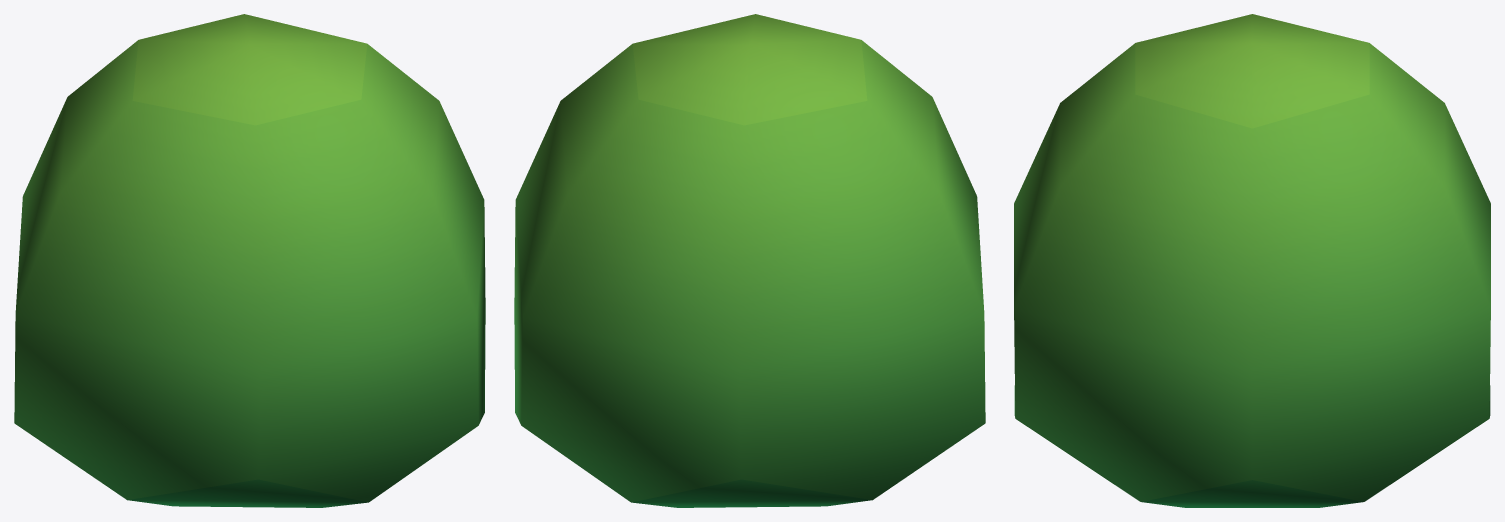
Rendered from Bush_1_A_Color1.glb.
3 views of the same model, side by side, from view 1: azimuth 30°, elevation 25°; view 2: azimuth 150°, elevation 25°; view 3: azimuth 270°, elevation 25° (orthographic).
Visible parts, largest first — view 1: Bush_1_A_Color1; view 2: Bush_1_A_Color1; view 3: Bush_1_A_Color1.
Part boxes in pixels (x1=…): Bush_1_A_Color1: x1=14, y1=14, x2=485, y2=507; Bush_1_A_Color1: x1=514, y1=14, x2=985, y2=507; Bush_1_A_Color1: x1=1014, y1=14, x2=1490, y2=507.
Size of the model in its own units: 0.2672 by 0.2267 by 0.2341.
Materials: 1 (1 with a texture image).
